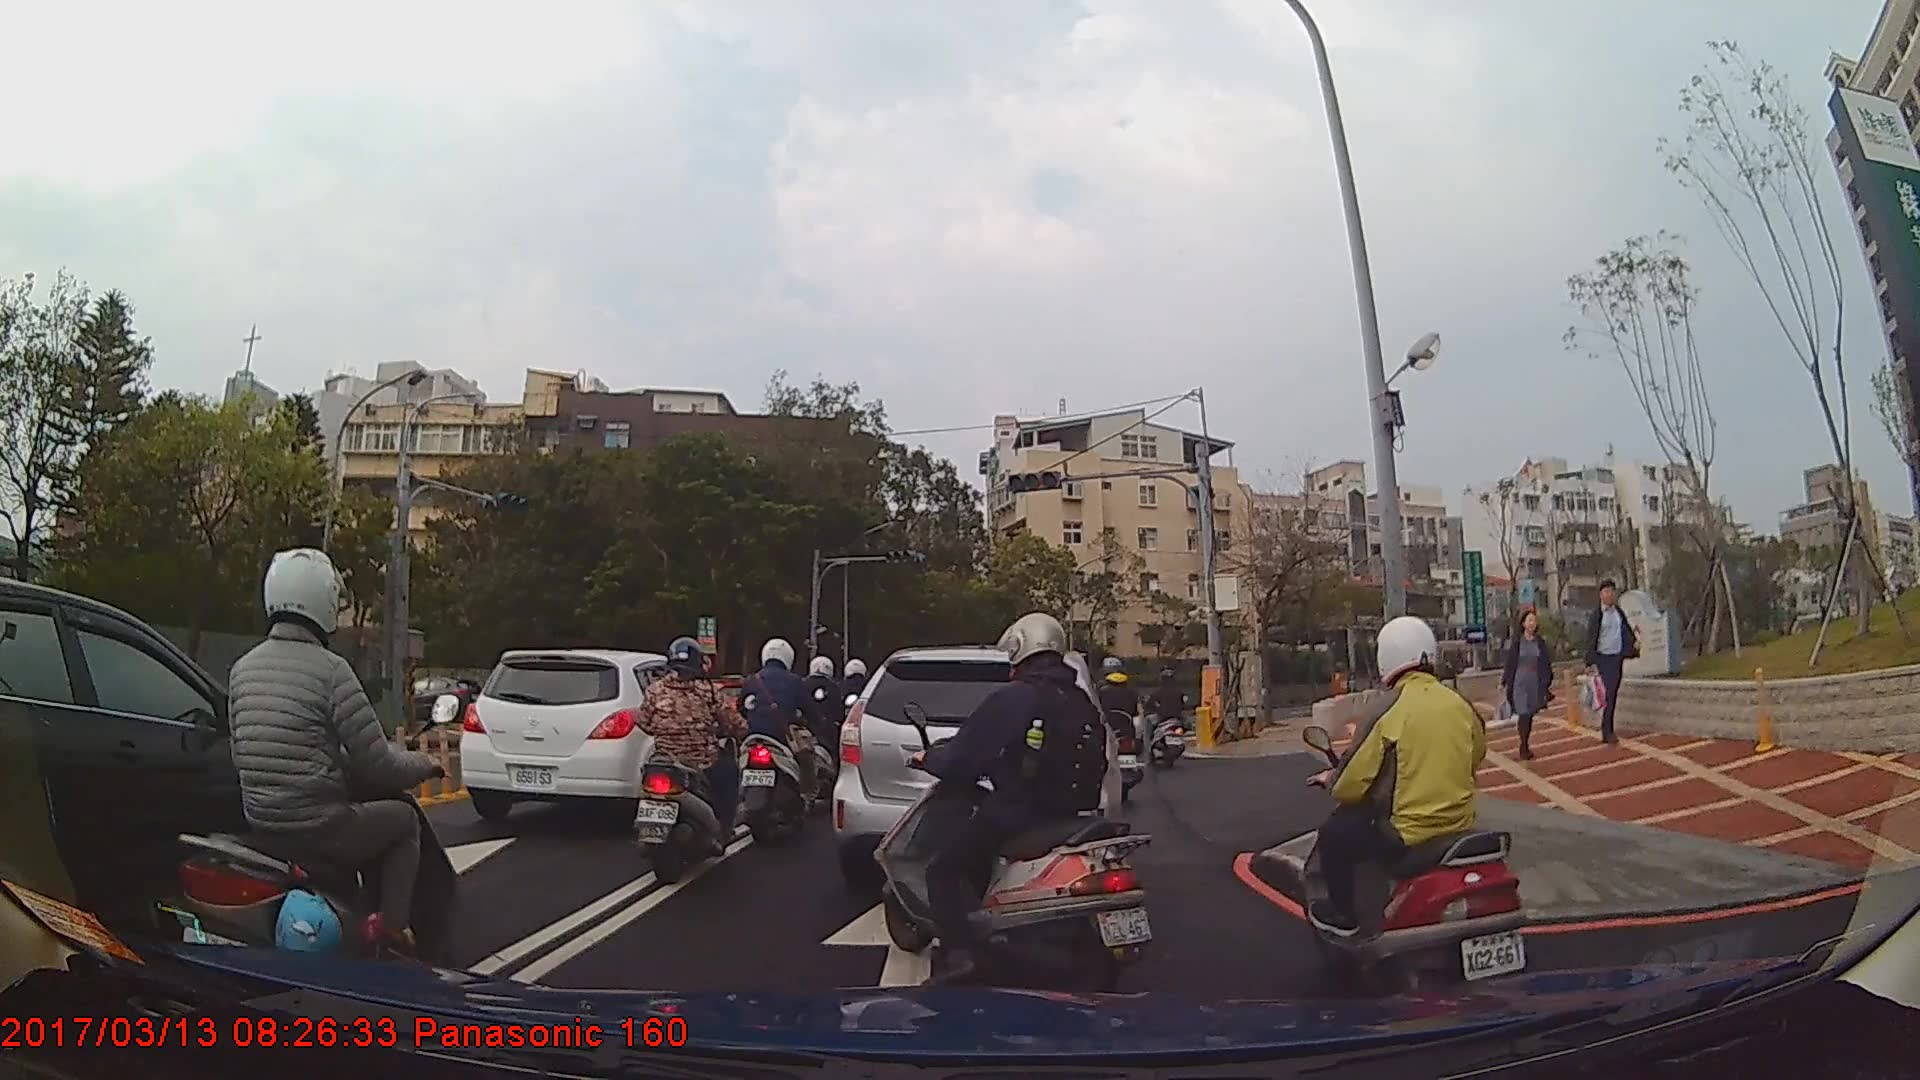pedestrian: (1491, 611, 1558, 772), (1582, 581, 1646, 744)
rider: (159, 546, 463, 1026), (874, 612, 1161, 999), (1300, 615, 1525, 1018), (632, 637, 748, 887), (730, 635, 830, 843), (1086, 656, 1145, 801), (800, 656, 855, 799), (1142, 673, 1191, 762)
vehicle: (0, 574, 384, 955), (832, 643, 1118, 894), (457, 647, 737, 825), (393, 675, 482, 723)
